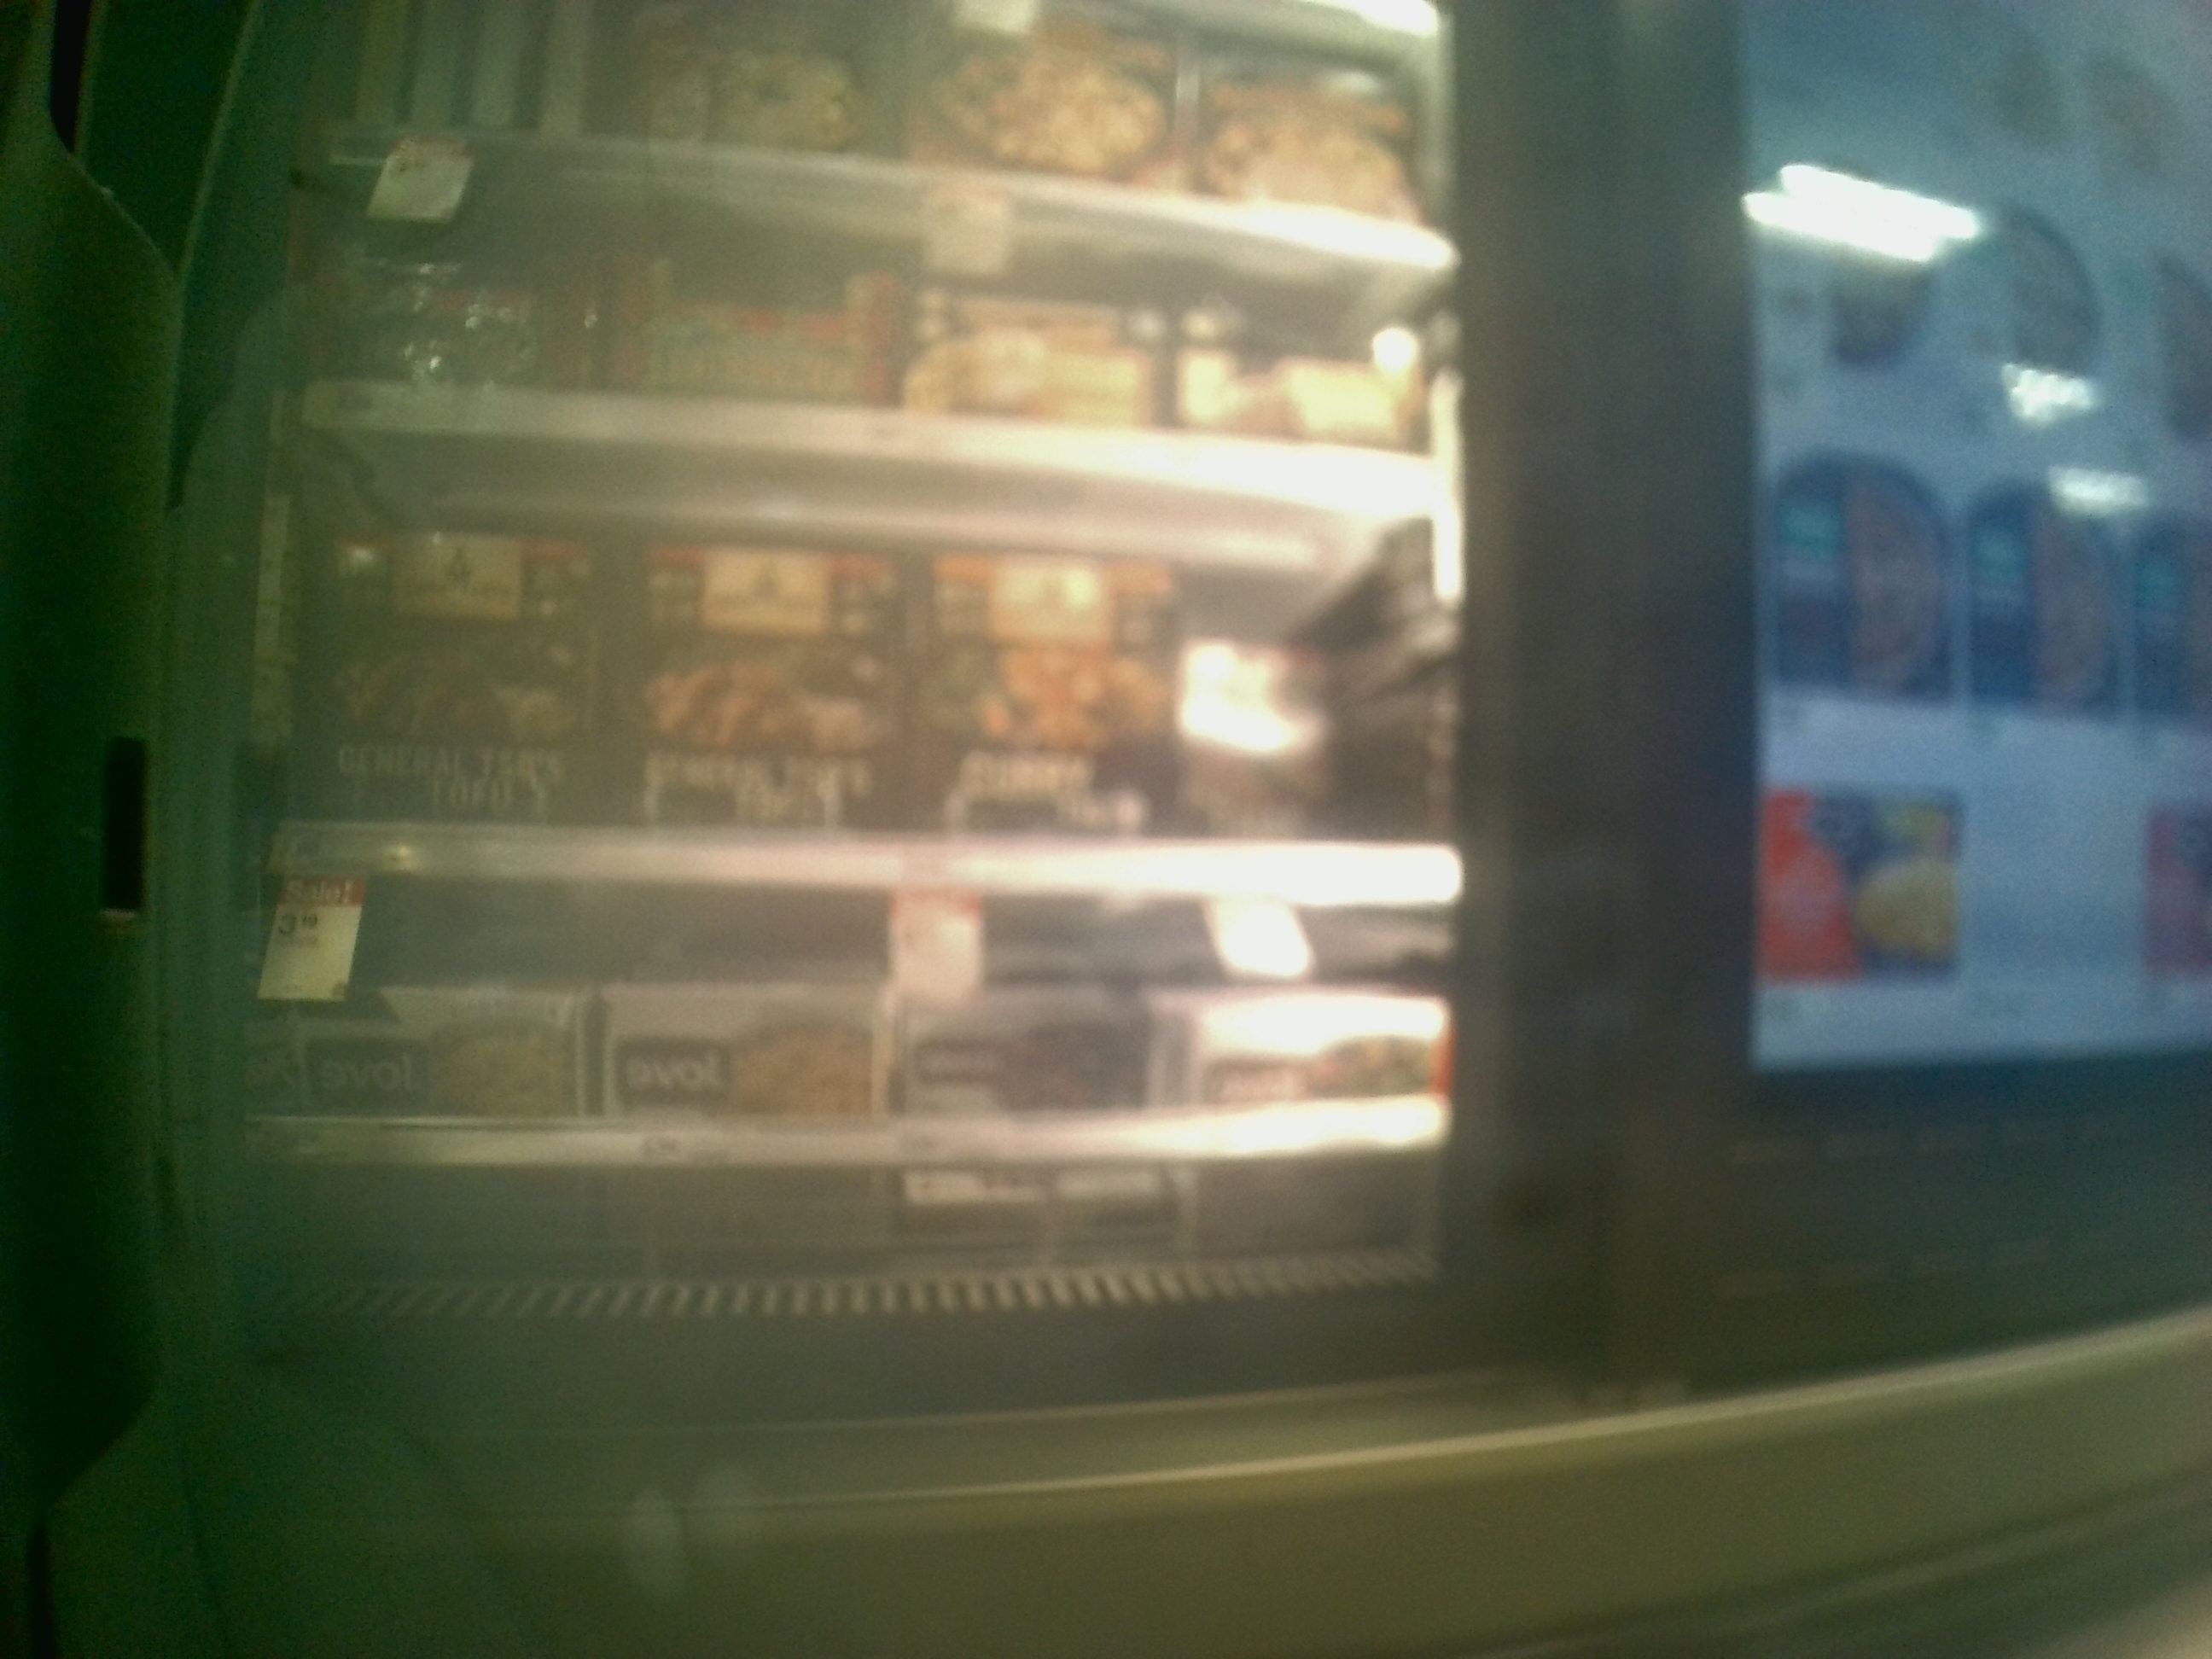frozen-food-shelf: (233, 502, 1470, 908), (228, 908, 1474, 1171)
